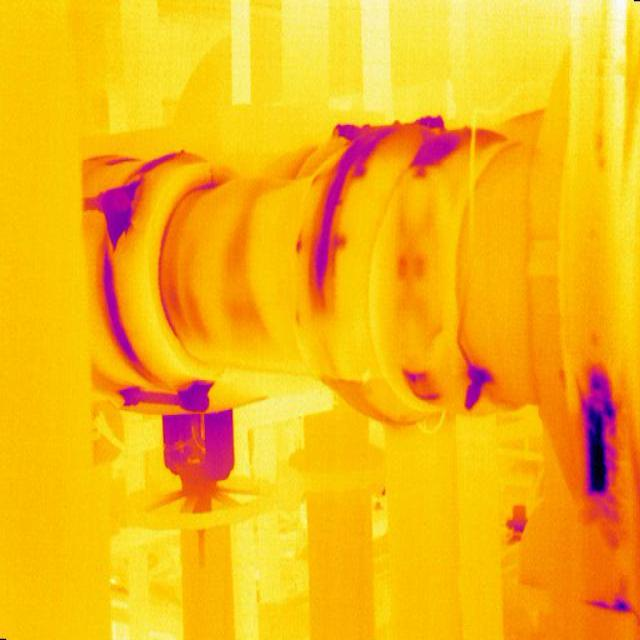leakage: (302, 136, 362, 310), (98, 254, 166, 386), (576, 361, 621, 502), (80, 178, 146, 251), (224, 212, 256, 330), (404, 128, 466, 188), (110, 387, 224, 414), (394, 221, 432, 290), (457, 362, 496, 418), (403, 360, 441, 412), (180, 283, 210, 341)
